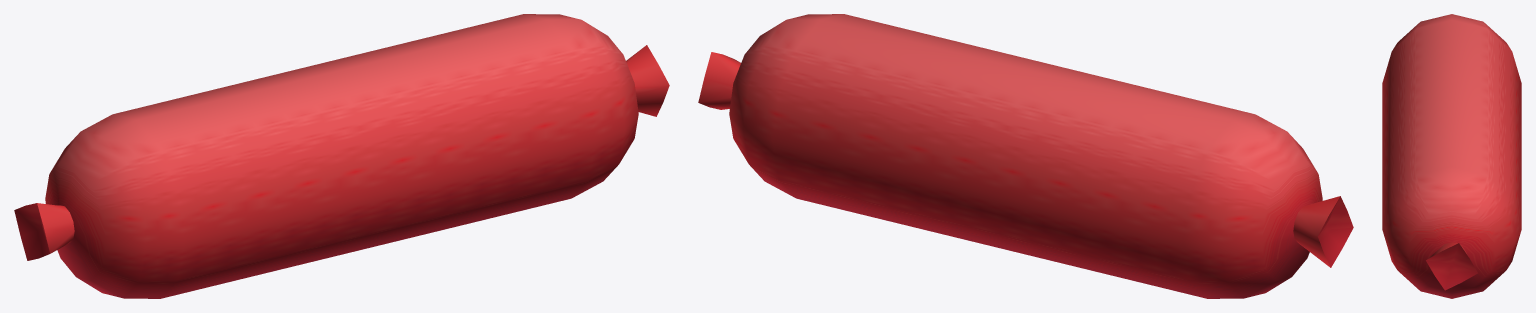
The model's file is food_ingredient_pepperoni.gltf.
3 renders of one model, left to right at view 1: azimuth 30°, elevation 25°; view 2: azimuth 150°, elevation 25°; view 3: azimuth 270°, elevation 25°, orthographic. The views are drawn at different scales.
Visible parts, largest first — view 1: food_ingredient_pepperoni; view 2: food_ingredient_pepperoni; view 3: food_ingredient_pepperoni.
Boxes of the visible parts, left/top/right/bottom form: food_ingredient_pepperoni: left=14, top=14, right=669, bottom=298; food_ingredient_pepperoni: left=698, top=14, right=1353, bottom=298; food_ingredient_pepperoni: left=1382, top=14, right=1521, bottom=298.
Size of the model in its own units: 1.5 by 0.4 by 0.4.
Materials: 1 (1 with a texture image).
